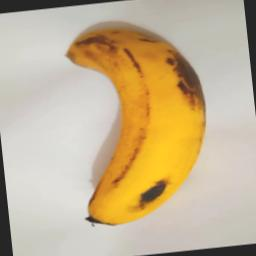Banana Unripe: (58, 19, 218, 226)
